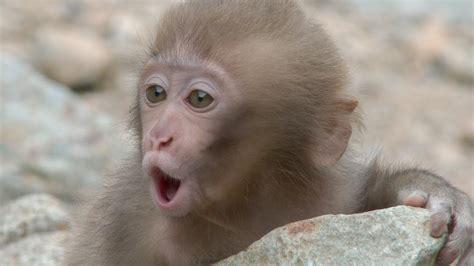monkey: (69, 1, 474, 266)
